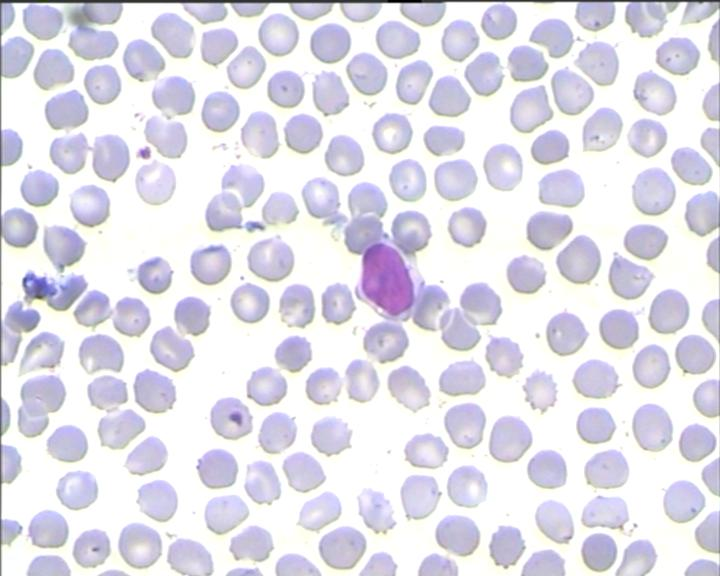lymp: (353, 235, 426, 325)
